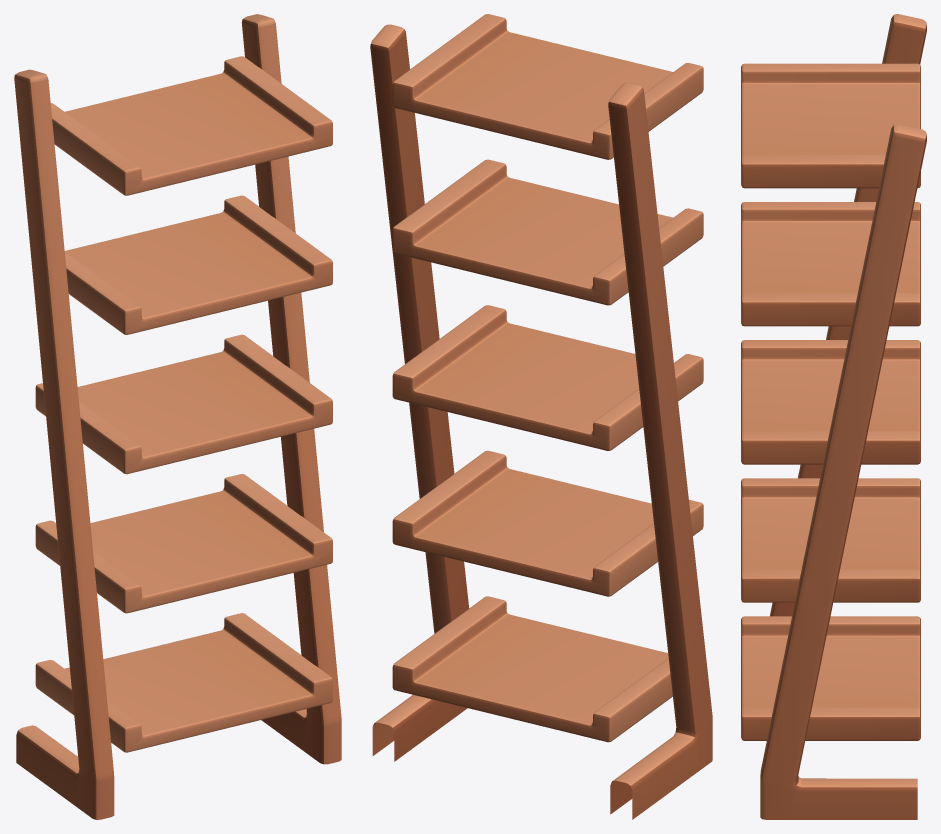
Rendered from testshelf1.fbx.
The picture shows the model from 3 angles, left to right: view 1: azimuth 30°, elevation 25°; view 2: azimuth 150°, elevation 25°; view 3: azimuth 270°, elevation 25°; orthographic projection. The views are drawn at different scales.
Visible parts, largest first — view 1: shelf1; view 2: shelf1; view 3: shelf1.
Part boxes in pixels (x1,y1,x2,y2): shelf1: (14,14,341,819); shelf1: (370,14,712,819); shelf1: (741,14,926,819).
Size of the model in its own units: 11.41 by 30.41 by 7.45.
